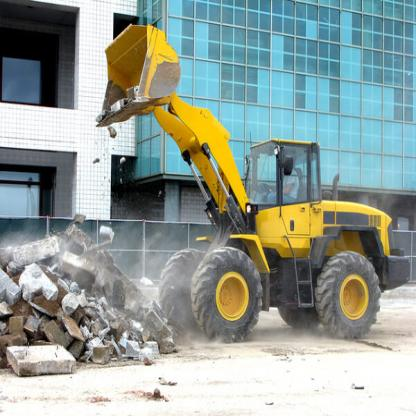bull_dozer/loader/grader: (95, 9, 416, 366)
